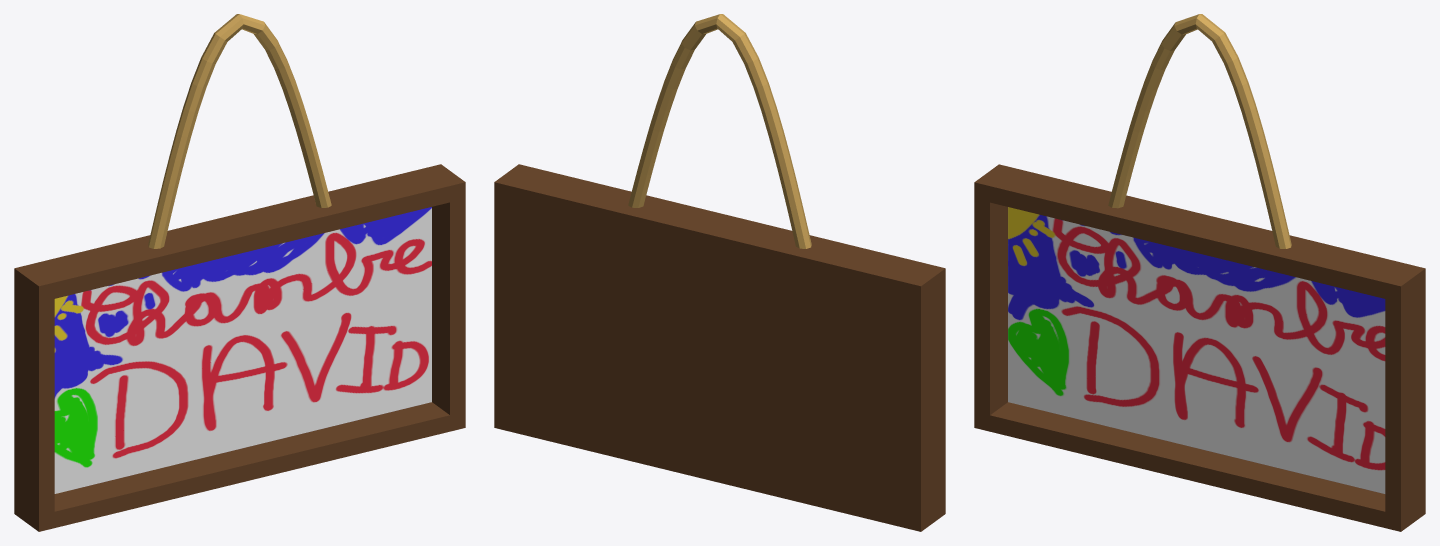
The model's file is David.fbx.
3 renders of one model, left to right at view 1: azimuth 30°, elevation 25°; view 2: azimuth 150°, elevation 25°; view 3: azimuth 330°, elevation 25°, orthographic.
Visible parts, largest first — view 1: Cube, Cylinder; view 2: Cube, Cylinder; view 3: Cube, Cylinder.
Part boxes in pixels (x1,y1,x2,y2): Cube: (14, 164, 465, 531); Cylinder: (148, 14, 331, 248); Cube: (494, 164, 945, 531); Cylinder: (628, 14, 811, 248); Cube: (974, 164, 1425, 531); Cylinder: (1108, 14, 1291, 248).
Size of the model in its own units: 200 by 205 by 20.
Materials: 3 (1 with a texture image).
